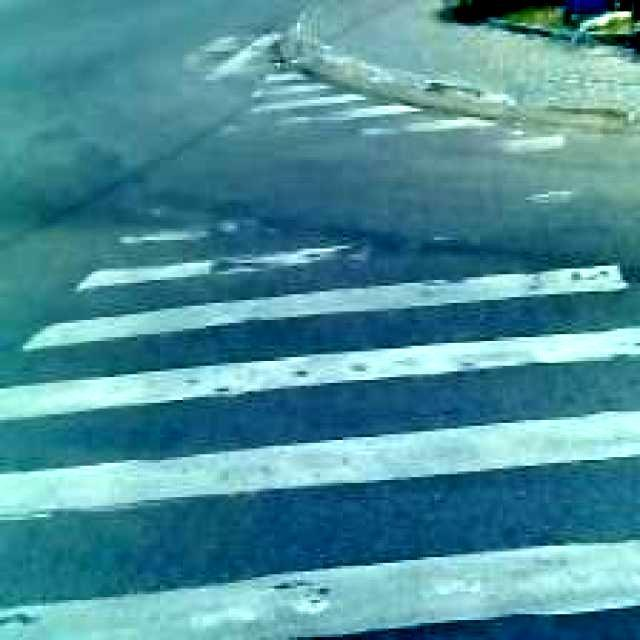crosswalk: (28, 192, 640, 640)
